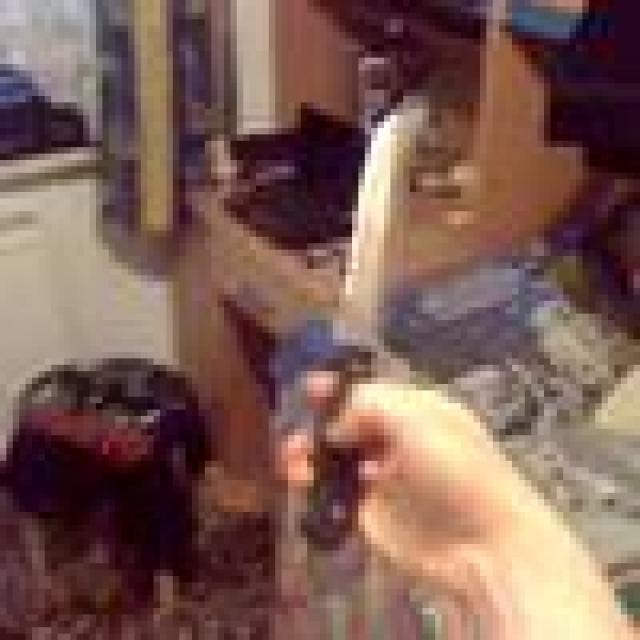Knife: (282, 31, 442, 582)
